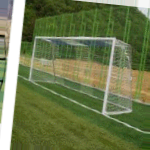goals: (28, 34, 136, 116)
